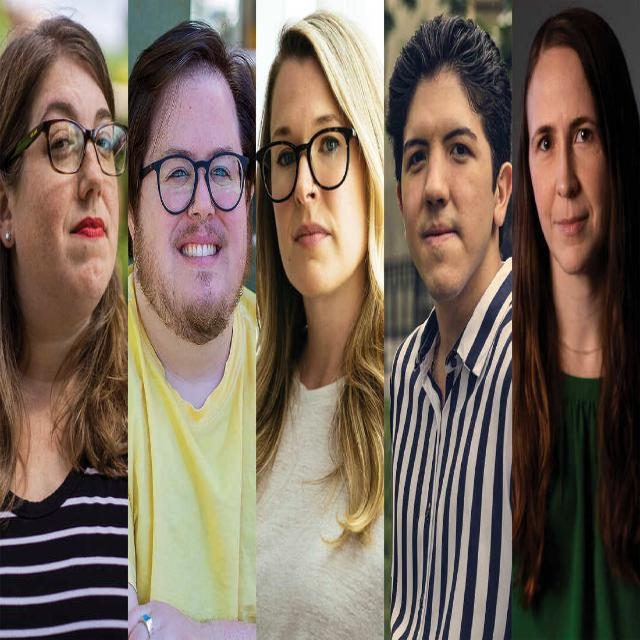adult: (0, 13, 130, 640), (258, 6, 385, 640), (514, 6, 636, 640), (130, 17, 254, 640), (389, 14, 510, 640)
